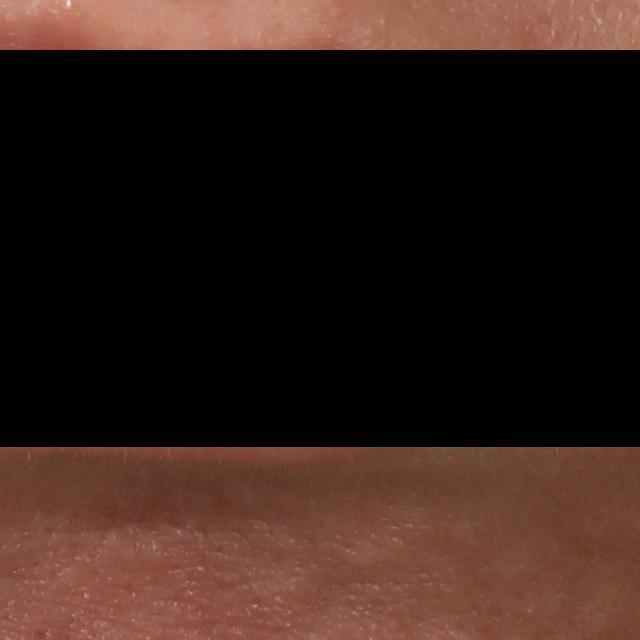hypertrophic_scar: (90, 526, 175, 574), (333, 528, 412, 578)
